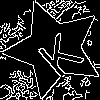K: (29, 24, 86, 81)
